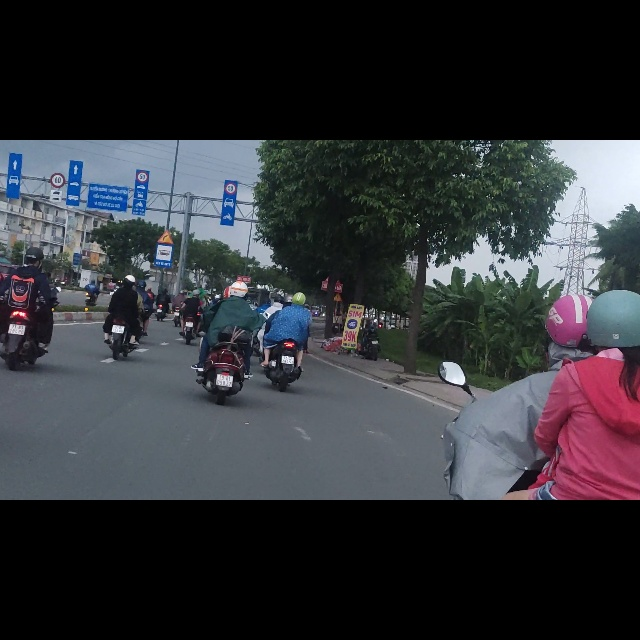bien_nguy_hiem: (154, 185, 173, 226), (157, 159, 174, 186), (50, 57, 65, 85), (50, 87, 62, 111), (225, 76, 237, 97), (137, 55, 148, 76)
